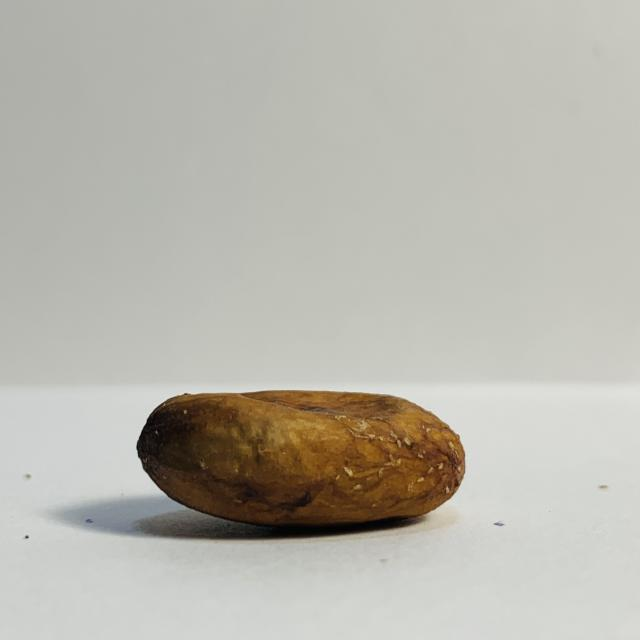Fine_cocoabeans: (75, 358, 576, 571)
